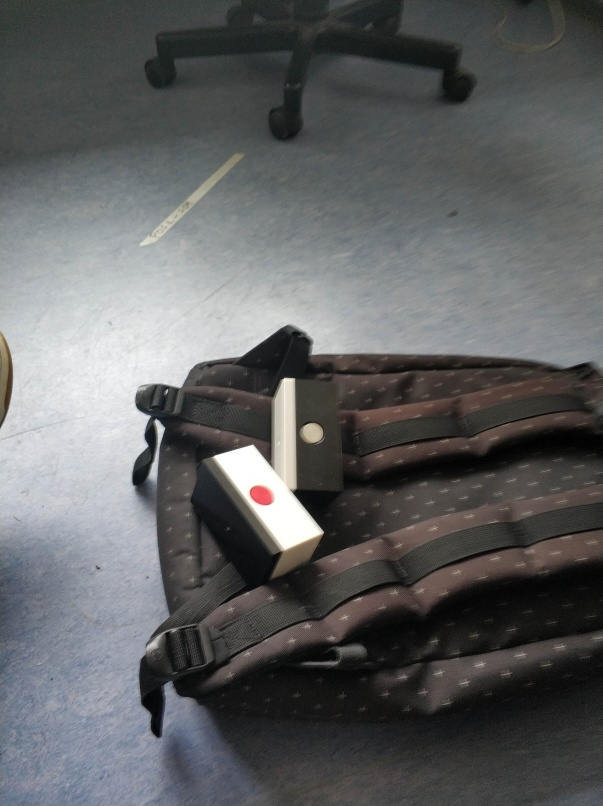black+white+red: (189, 443, 322, 586)
white+black+silver: (269, 375, 346, 501)
